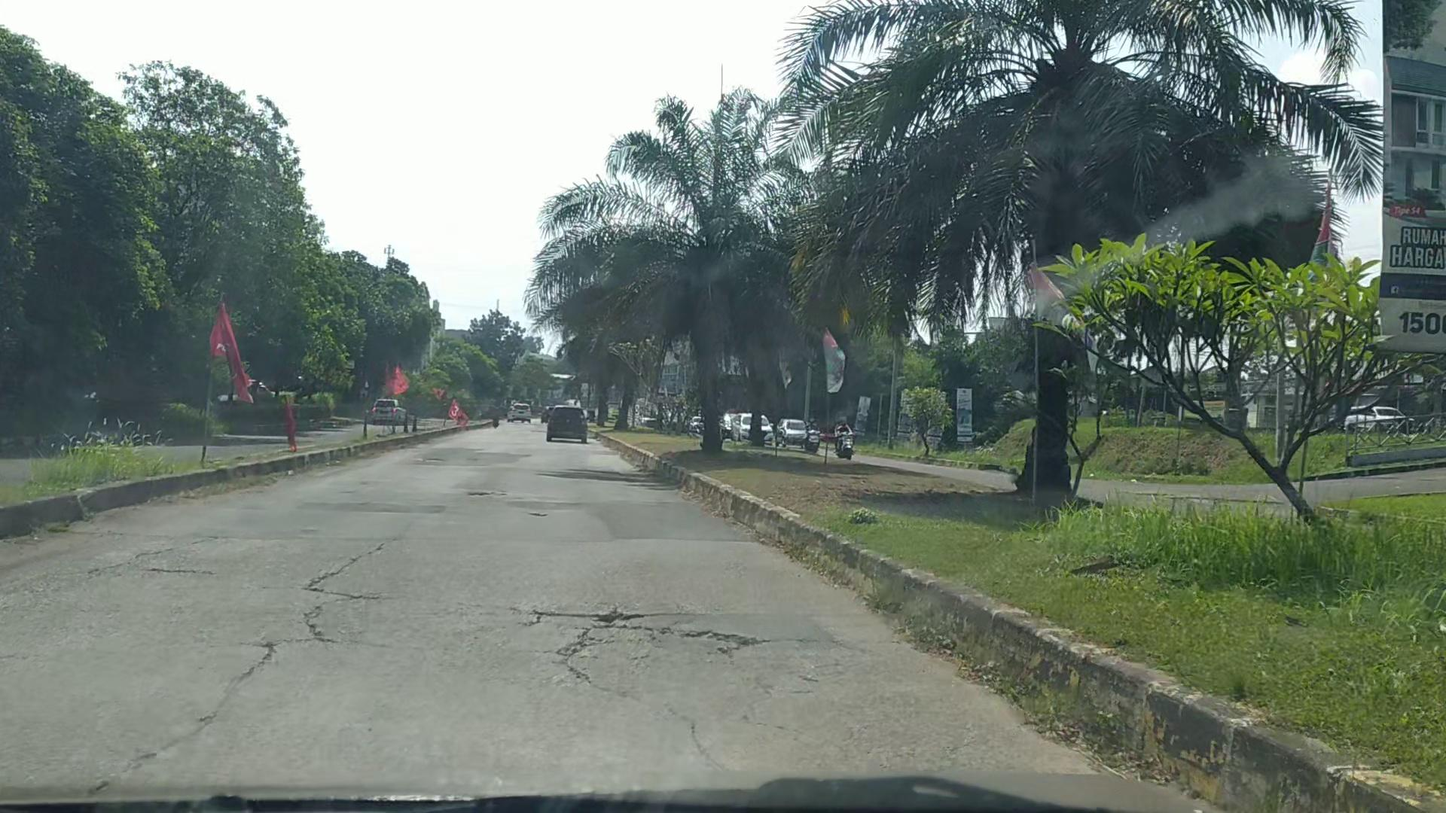pothole: (674, 630, 769, 659), (531, 609, 646, 627)
